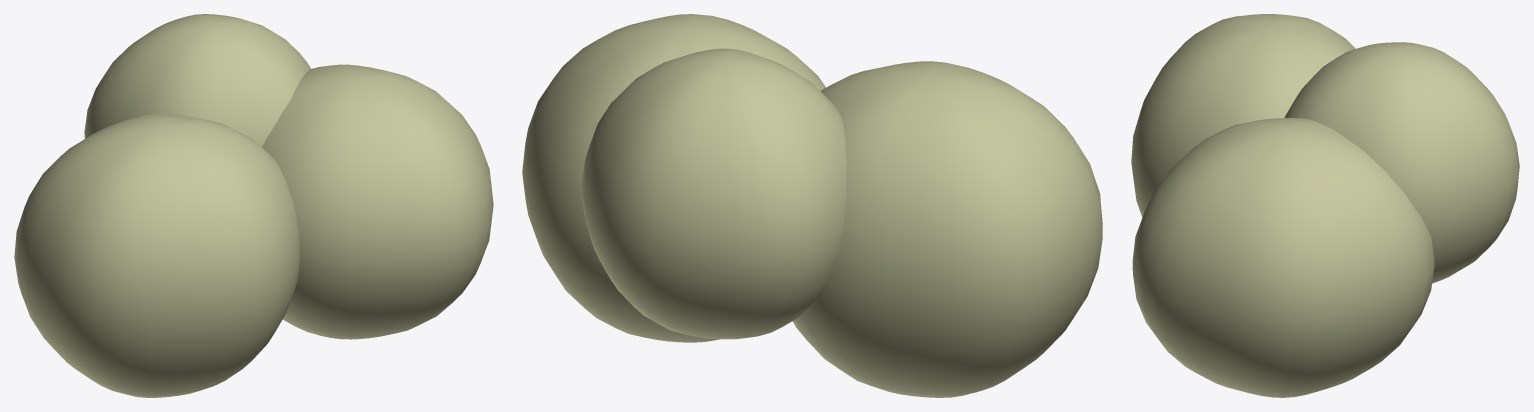
Rendered from cali-kucuk.glb.
The picture shows the model from 3 angles, left to right: view 1: azimuth 30°, elevation 25°; view 2: azimuth 150°, elevation 25°; view 3: azimuth 270°, elevation 25°; orthographic projection. The views are drawn at different scales.
Parts seen in each view (by area): view 1: 67P_PROP_BUSH_KUCUK_01_BODY; view 2: 67P_PROP_BUSH_KUCUK_01_BODY; view 3: 67P_PROP_BUSH_KUCUK_01_BODY.
Part boxes in pixels (x1=…): 67P_PROP_BUSH_KUCUK_01_BODY: x1=14, y1=14, x2=493, y2=397; 67P_PROP_BUSH_KUCUK_01_BODY: x1=522, y1=14, x2=1102, y2=397; 67P_PROP_BUSH_KUCUK_01_BODY: x1=1131, y1=14, x2=1519, y2=397.
Bounding box in the file's own units: 1.05 × 0.6497 × 0.771.
